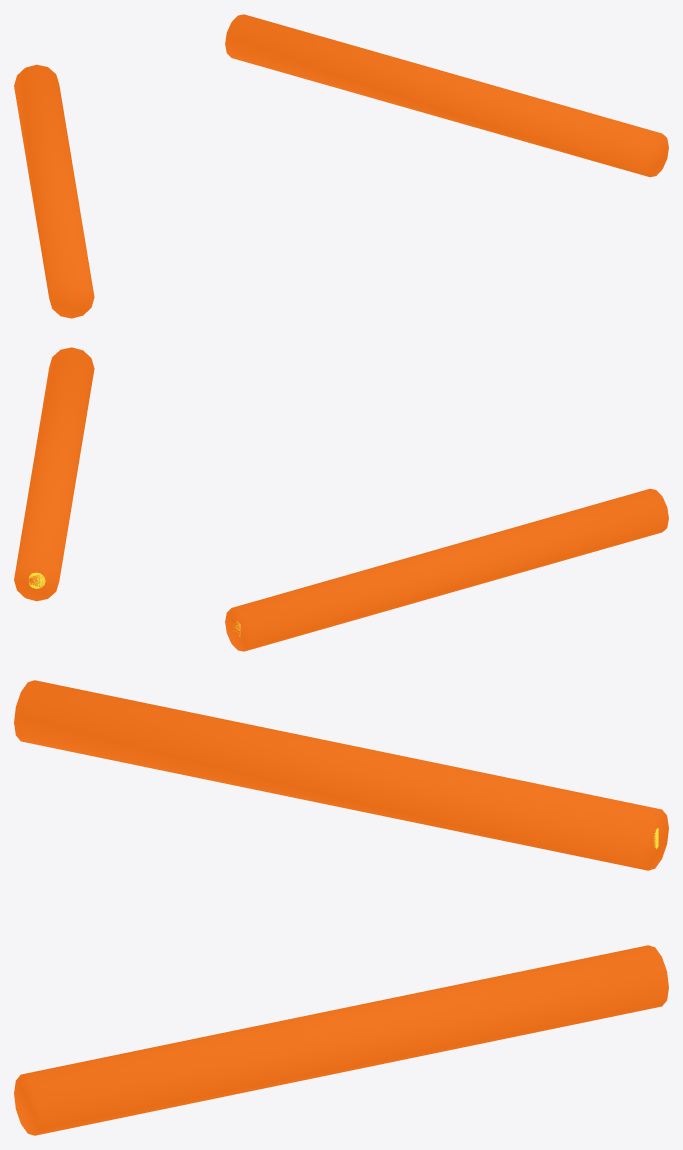
Rendered from trait-eyes-fire-laser-skull.glb.
3 renders of one model, top to bottom at view 1: azimuth 30°, elevation 25°; view 2: azimuth 150°, elevation 25°; view 3: azimuth 270°, elevation 25°, orthographic. The views are drawn at different scales.
Parts seen in each view (by area): view 1: trait_eye_beam_R, trait_eye_beam_L; view 2: trait_eye_beam_L, trait_eye_beam_R; view 3: trait_eye_beam_R, trait_eye_beam_L.
Boxes of the visible parts, left/top/right/bottom form: trait_eye_beam_R: left=225, top=14, right=668, bottom=177; trait_eye_beam_L: left=14, top=64, right=94, bottom=318; trait_eye_beam_L: left=225, top=488, right=668, bottom=651; trait_eye_beam_R: left=14, top=347, right=94, bottom=601; trait_eye_beam_R: left=14, top=945, right=668, bottom=1135; trait_eye_beam_L: left=14, top=680, right=668, bottom=870.
Bounding box in the file's own units: 1.42 × 0.09 × 0.9382.
